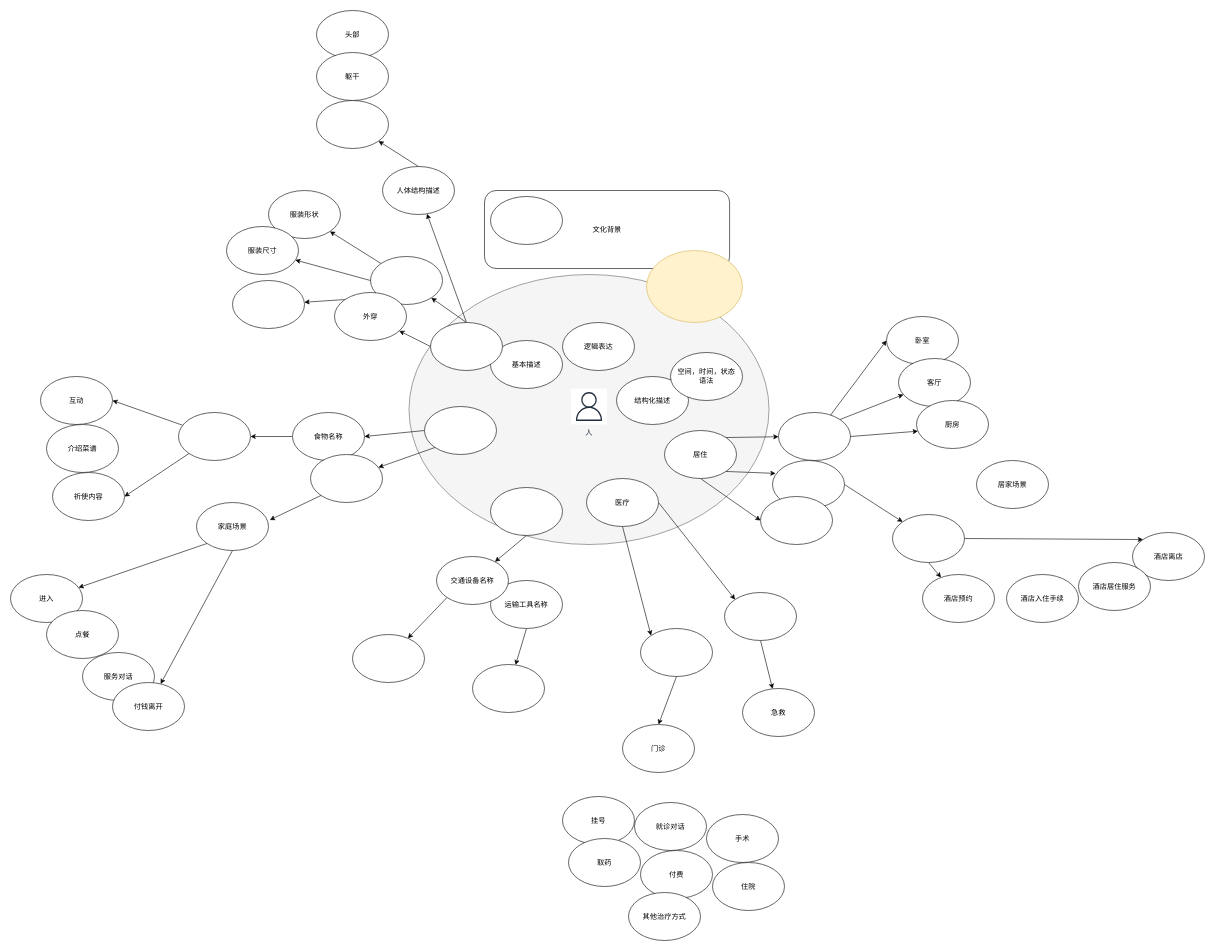
The diagram is 1215 pixels wide and 951 high, and some of its shapes have lost their labels. Here are the shapes that lost their labels. From the top down, the centre of each, then its label:
At point (352, 124): "腿脚".
At point (526, 220): "常用俚语，俗语".
At point (406, 280): "内搭".
At point (694, 286): "学术，工作".
At point (268, 304): "服装材质".
At point (466, 346): "服饰，外貌".
At point (214, 436): "餐厅场景".
At point (460, 430): "饮食".
At point (814, 436): "房屋结构".
At point (346, 478): "餐具名称".
At point (808, 484): "家具操作表达".
At point (526, 511): "交通出行".
At point (796, 520): "家具状态表达".
At point (928, 538): "外出旅行".
At point (760, 616): "身体器官描述".
At point (388, 658): "乘客视角".
At point (676, 652): "感受表达".
At point (508, 688): "司机视角".
